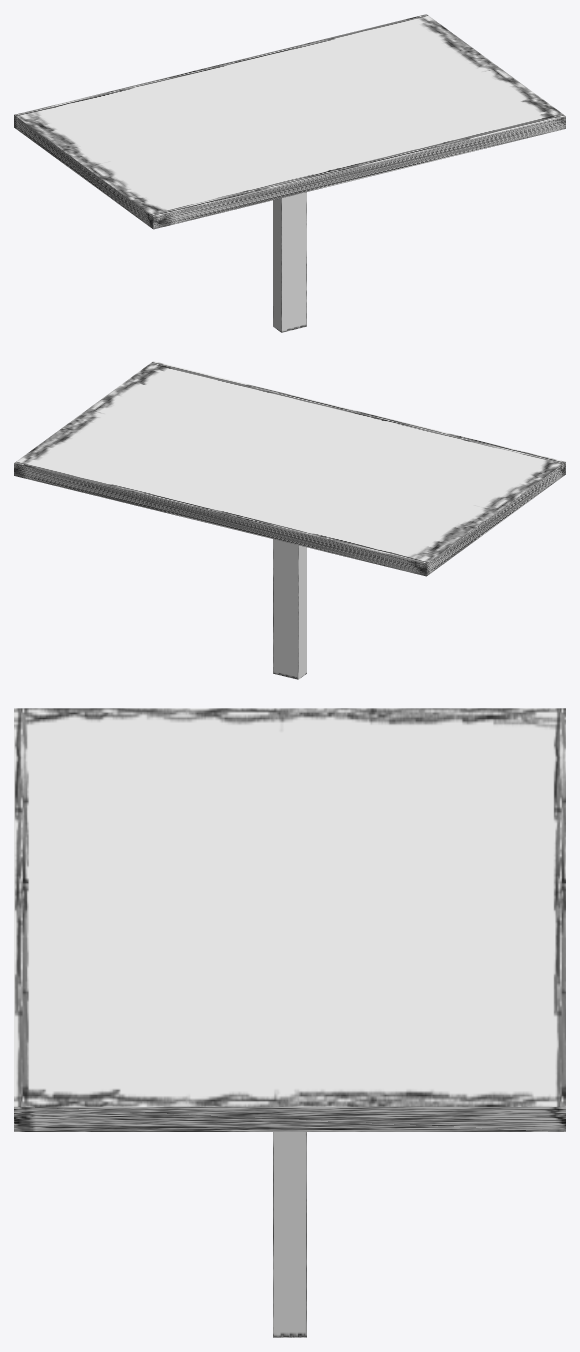
File: Table.fbx
The picture shows the model from 3 angles, top to bottom: view 1: azimuth 30°, elevation 25°; view 2: azimuth 150°, elevation 25°; view 3: azimuth 270°, elevation 25°; orthographic projection. The views are drawn at different scales.
Visible parts, largest first — view 1: Cube; view 2: Cube; view 3: Cube.
Part boxes in pixels (x1,y1,x2,y2): Cube: [14, 14, 565, 332]; Cube: [14, 361, 565, 679]; Cube: [14, 708, 565, 1337].
Bounding box in the file's own units: 487 × 238 × 285.
